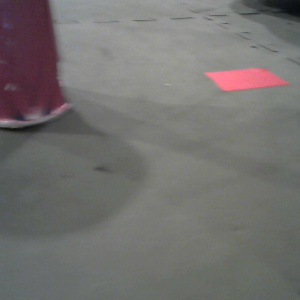middle: (1, 1, 74, 133)
